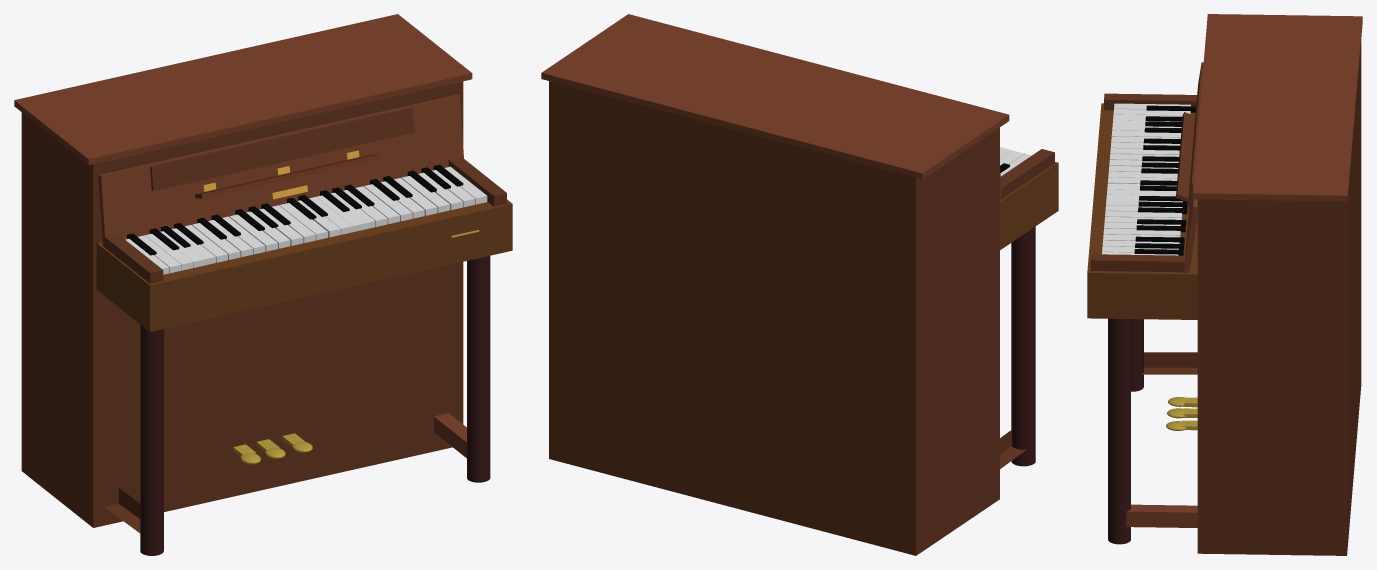
File: piano_330287dc.glb
The picture shows the model from 3 angles, left to right: view 1: azimuth 30°, elevation 25°; view 2: azimuth 150°, elevation 25°; view 3: azimuth 270°, elevation 25°; orthographic projection. The views are drawn at different scales.
Parts seen in each view (by area): view 1: 1_Material.006_0, 1_Material.007_0, 1_Material.010_0, 2_Material.001_0, 5 (1), 5 (2), 3_Material.002_0, 3_Material.003_0, 4_Material.005_0, 1_Material.012_0; view 2: 1_Material.006_0, 1_Material.007_0, 5 (2), 1_Material.010_0; view 3: 1_Material.006_0, 1_Material.007_0, 2_Material.001_0, 1_Material.010_0, 5 (1), 3_Material.002_0, 5 (2), 3_Material.003_0, 4_Material.005_0.
Boxes of the visible parts, x1,y1,x2,y2 form: 1_Material.006_0: [21, 81, 506, 527]; 1_Material.007_0: [14, 14, 472, 246]; 1_Material.010_0: [96, 199, 512, 331]; 2_Material.001_0: [125, 166, 487, 274]; 5 (1): [434, 256, 490, 482]; 5 (2): [104, 325, 163, 555]; 3_Material.002_0: [149, 167, 450, 250]; 3_Material.003_0: [127, 164, 463, 255]; 4_Material.005_0: [233, 433, 312, 464]; 1_Material.012_0: [203, 150, 479, 237]; 1_Material.006_0: [549, 81, 1054, 555]; 1_Material.007_0: [541, 14, 1009, 199]; 5 (2): [1000, 226, 1035, 468]; 1_Material.010_0: [1000, 153, 1058, 249]; 1_Material.006_0: [1090, 41, 1361, 555]; 1_Material.007_0: [1183, 14, 1362, 273]; 2_Material.001_0: [1102, 103, 1190, 255]; 1_Material.010_0: [1087, 103, 1197, 319]; 5 (1): [1108, 318, 1197, 544]; 3_Material.002_0: [1135, 116, 1187, 249]; 5 (2): [1131, 319, 1197, 391]; 3_Material.003_0: [1134, 105, 1195, 255]; 4_Material.005_0: [1166, 397, 1197, 430].
Bounding box in the file's own units: 1.77 × 1.65 × 1.14.
